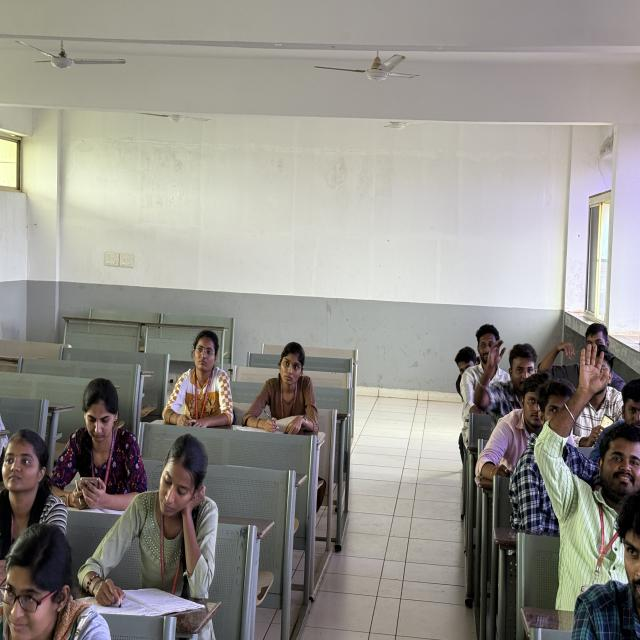Hand Rising: (539, 336, 640, 587)
Using Phone: (53, 374, 151, 513)
Writing: (75, 428, 238, 618), (242, 334, 326, 442)
